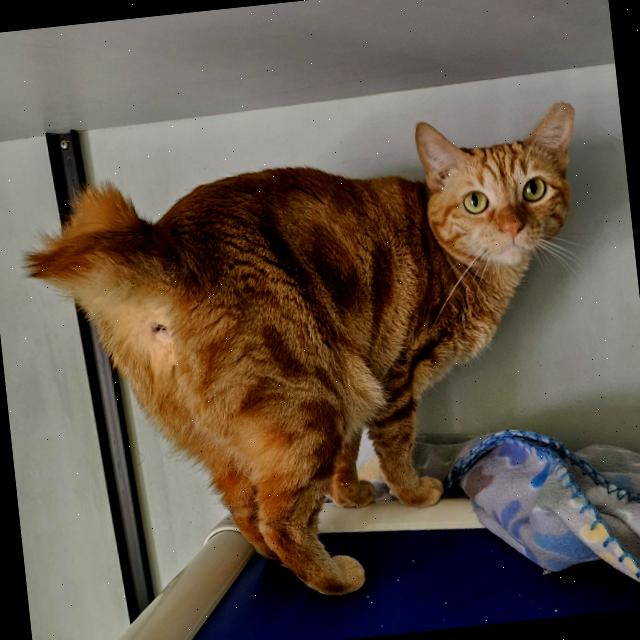domestic_short_hair_cat: (378, 74, 611, 325)
